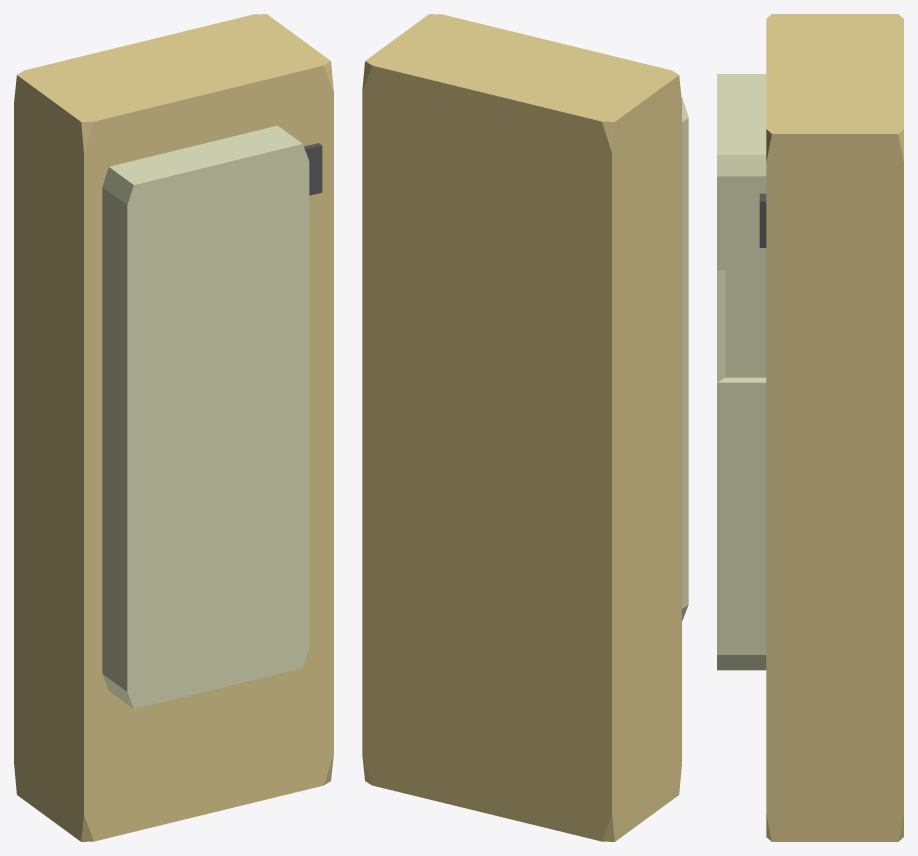
The model's file is intercom6.fbx.
3 renders of one model, left to right at view 1: azimuth 30°, elevation 25°; view 2: azimuth 150°, elevation 25°; view 3: azimuth 270°, elevation 25°, orthographic.
Parts seen in each view (by area): view 1: Body, Plafoniera, Button; view 2: Body, Plafoniera; view 3: Body, Plafoniera, Button.
Part boxes in pixels (<box>): Body: <box>14,14,333,841</box>; Plafoniera: <box>102,125,309,708</box>; Button: <box>304,143,322,195</box>; Body: <box>362,14,681,841</box>; Plafoniera: <box>681,97,688,620</box>; Body: <box>766,14,903,841</box>; Plafoniera: <box>717,74,766,670</box>; Button: <box>759,193,766,247</box>.
Size of the model in its own units: 72.64 by 200 by 47.84.
